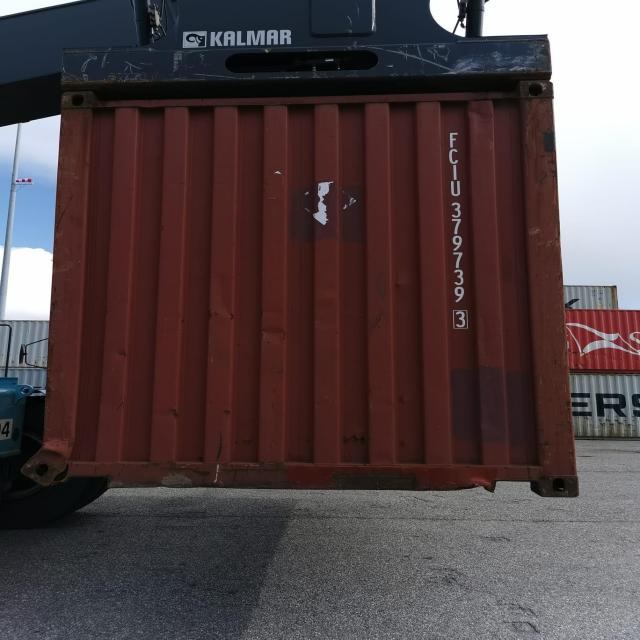dent: (13, 438, 78, 492), (212, 279, 235, 331), (447, 475, 502, 495), (262, 324, 288, 344), (110, 345, 127, 369), (472, 106, 488, 130), (372, 397, 394, 412), (154, 411, 178, 422), (264, 306, 287, 317)
